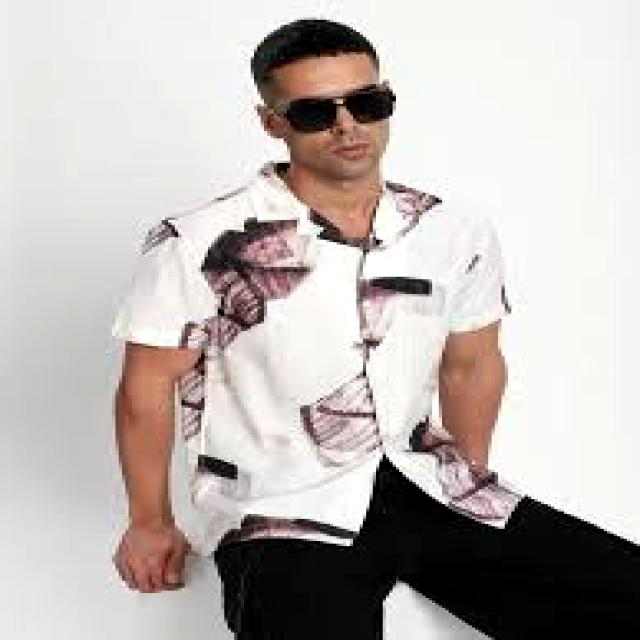face: (258, 107, 389, 180)
lower-wear: (215, 458, 639, 639)
top-wear: (113, 161, 524, 555)
